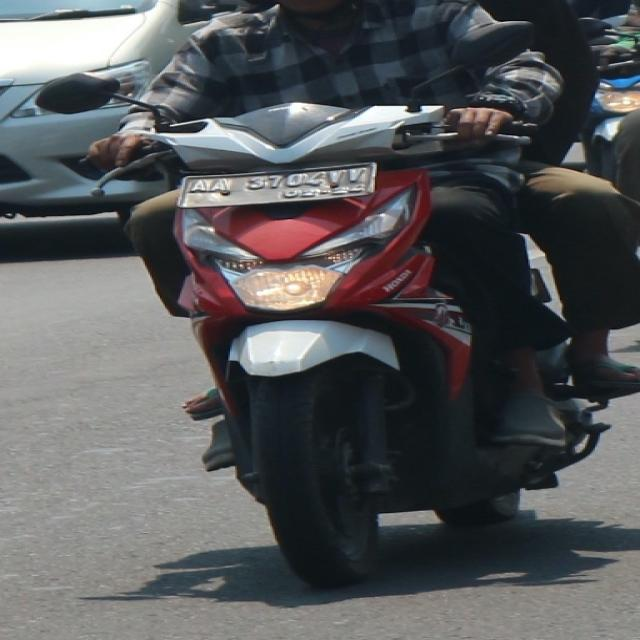Plate-Number: (166, 165, 386, 208)
